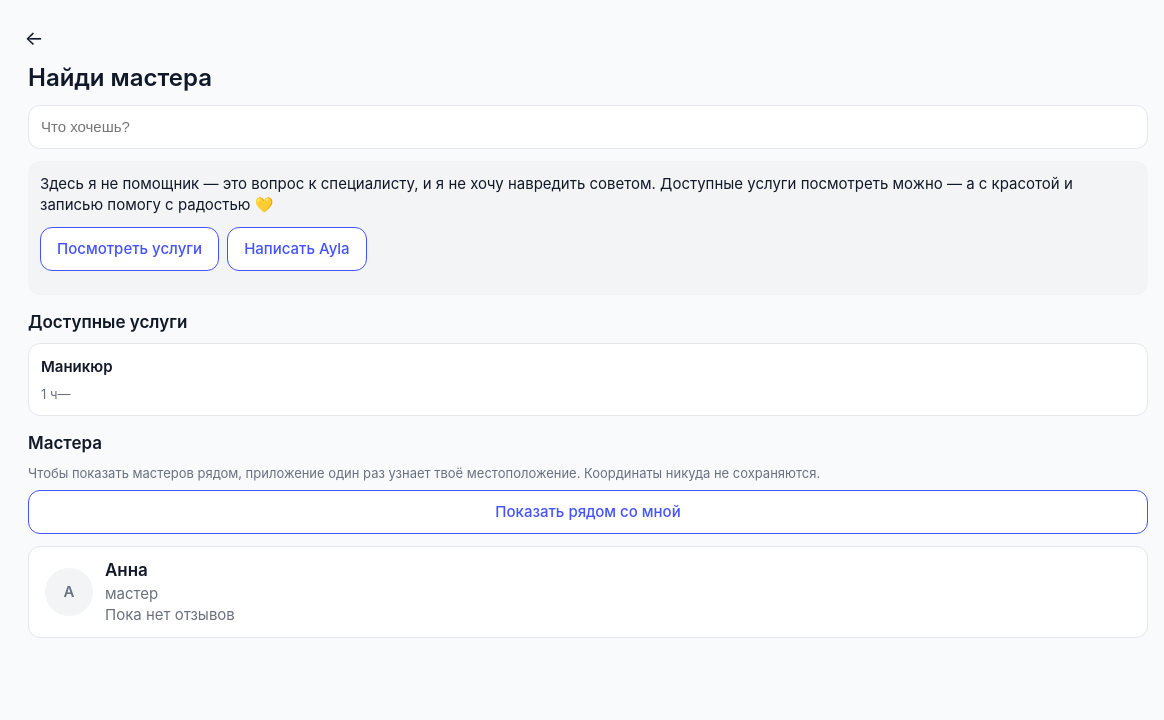
Scenario: C04.5 — safety boundary (DRF-1767) › DRF-2268: вернуться в чат нечем — подсказка рядом, а не тишина
This screenshot has width=1164, height=720.
Click the button "Написать Ayla" at [297, 249], box [227,227,367,271]
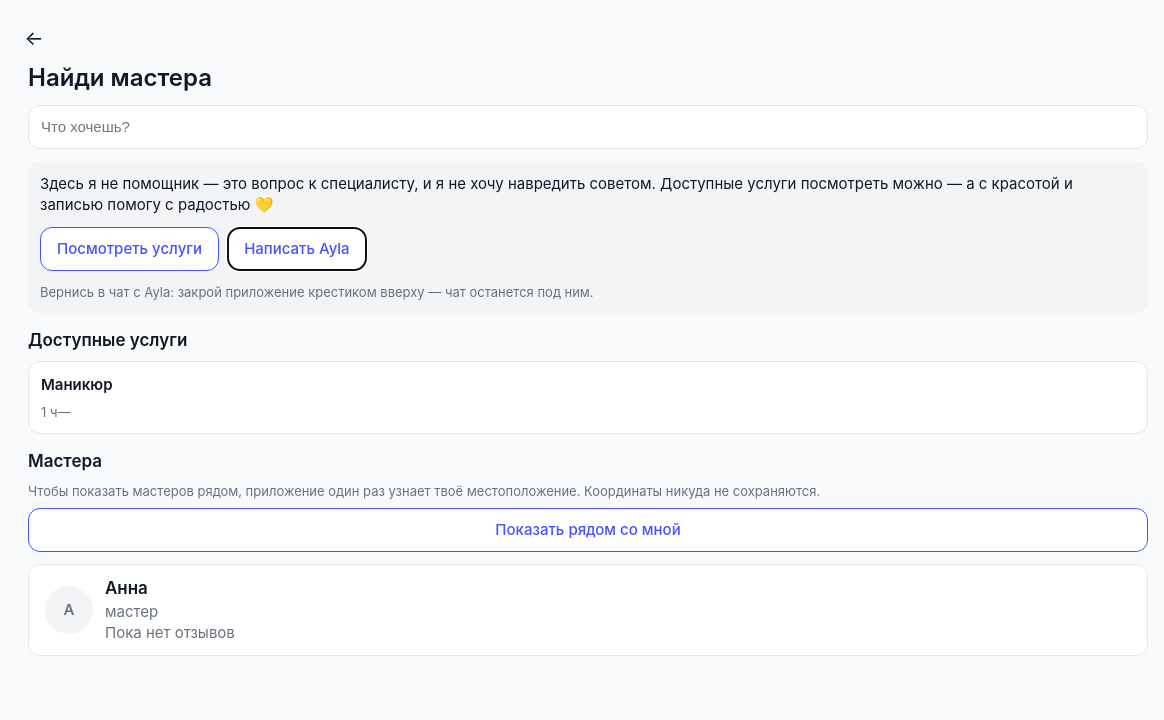
Now the text "Вернись в чат с Ayla: закрой приложение крестиком вверху — чат останется под ним." is shown, box [40,284,594,300]
